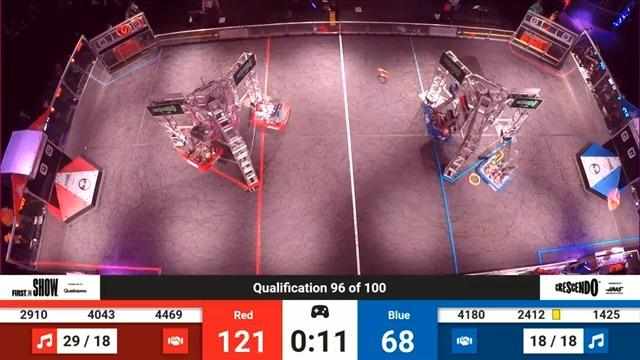robot: (423, 79, 469, 145), (178, 125, 229, 178), (184, 96, 231, 149), (251, 94, 293, 140), (477, 145, 519, 191)
